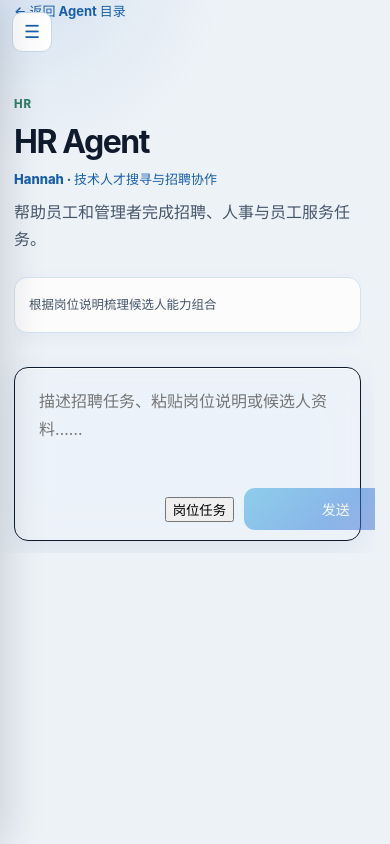
professional Agent use pages › uses an overlay history and composer tools in focused layout
This screenshot has width=390, height=844.
Click the button named "打开对话记录" at (32, 32), box x1=12 y1=12 x2=52 y2=52
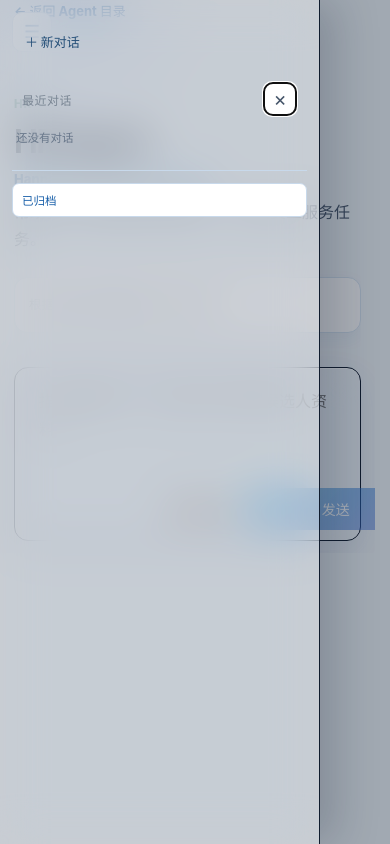
Check: the button named "关闭对话列表遮罩" is shown
